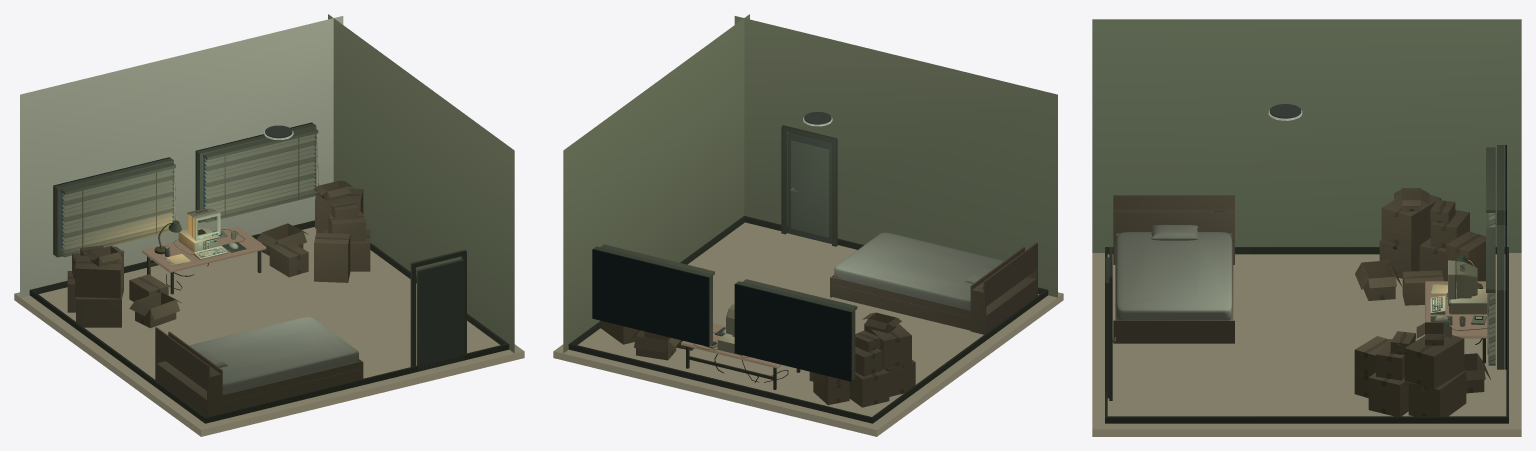
Rendered from room-baked.glb.
3 renders of one model, left to right at view 1: azimuth 30°, elevation 25°; view 2: azimuth 150°, elevation 25°; view 3: azimuth 270°, elevation 25°, orthographic. The views are drawn at different scales.
Visible parts, largest first — view 1: wall-front, wall-right, floor, bed, window-left, window-right, door, boxes-right, boxes-left, desk (×2), trim-left, trim-right (+1 smaller); view 2: wall-back, wall-right, floor, bed, window-left, window-right, door, boxes-left, trim-front, desk (×2), boxes-right, trim-left (+1 smaller); view 3: wall-left, floor, bed, boxes-right, boxes-left, desk (×2), trim-right, window-right, window-left, door, trim-left, fixture.
Boxes of the visible parts, x1,y1,x2,y2 form: wall-front: [20, 16, 343, 297]; wall-right: [328, 14, 514, 353]; floor: [14, 227, 524, 436]; bed: [155, 317, 363, 416]; window-left: [53, 157, 176, 257]; window-right: [195, 122, 318, 222]; door: [204, 250, 509, 423]; boxes-right: [256, 180, 370, 282]; boxes-left: [67, 245, 181, 328]; desk (×2): [142, 208, 266, 294]; trim-left: [30, 290, 205, 422]; trim-right: [370, 243, 508, 344]; wall-back: [734, 16, 1057, 297]; wall-right: [563, 14, 749, 353]; floor: [553, 222, 1063, 436]; bed: [830, 232, 1037, 334]; window-left: [734, 279, 857, 381]; window-right: [592, 244, 714, 346]; door: [743, 125, 1048, 295]; boxes-left: [809, 312, 915, 407]; trim-front: [568, 344, 873, 423]; desk (×2): [681, 303, 800, 389]; boxes-right: [600, 320, 694, 360]; trim-left: [872, 290, 1047, 422]; wall-left: [1092, 19, 1521, 252]; floor: [1092, 253, 1521, 436]; bed: [1113, 195, 1234, 343]; boxes-right: [1354, 322, 1490, 416]; boxes-left: [1355, 188, 1485, 305]; desk (×2): [1425, 255, 1488, 363]; trim-right: [1105, 416, 1508, 423]; window-right: [1486, 225, 1506, 369]; window-left: [1486, 145, 1506, 227]; door: [1105, 247, 1115, 423]; trim-left: [1107, 247, 1505, 254]; fixture: [1268, 104, 1302, 120].
Bounding box in the file's own units: 10 × 6.2 × 10.
